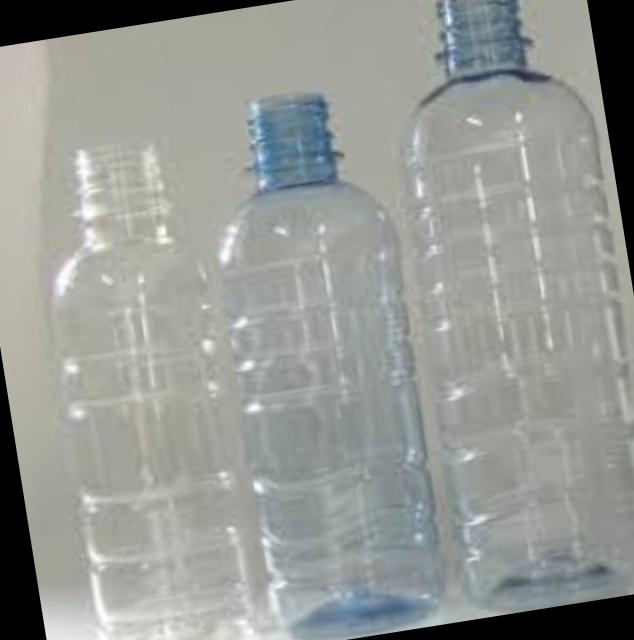plastic: (406, 0, 634, 602), (223, 87, 442, 631), (51, 135, 271, 640)
